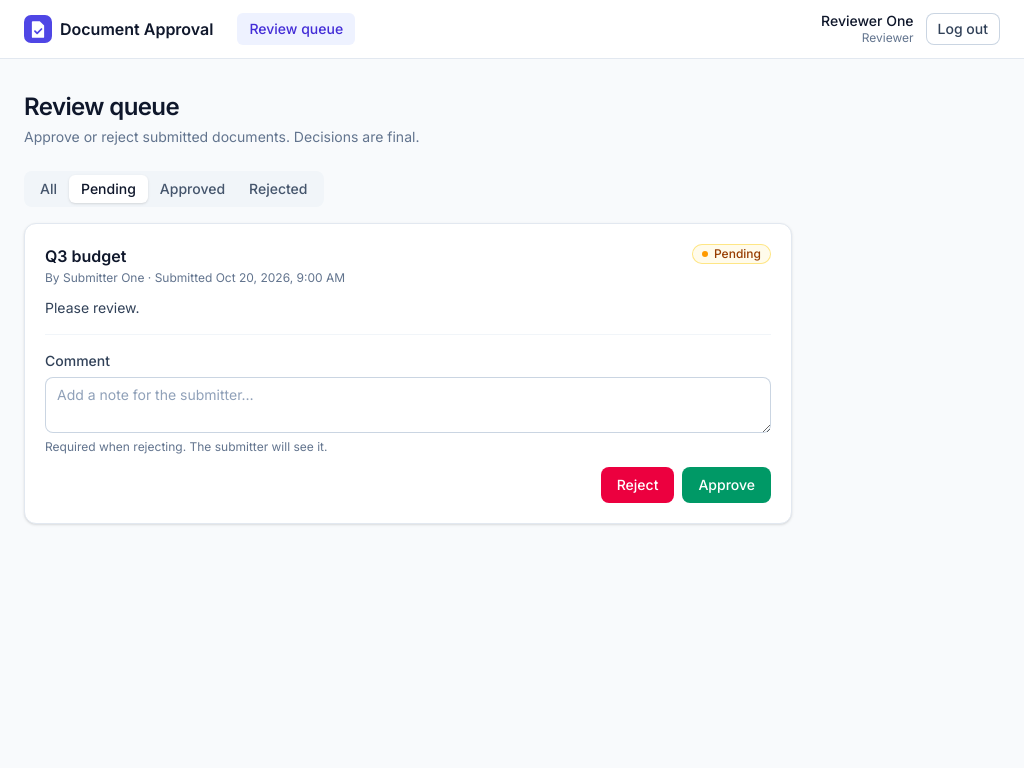
Test case: ReviewQueuePage › explains when another reviewer already decided (409)
Click the button "Approve" at (727, 484), box x1=682 y1=466 x2=771 y2=502
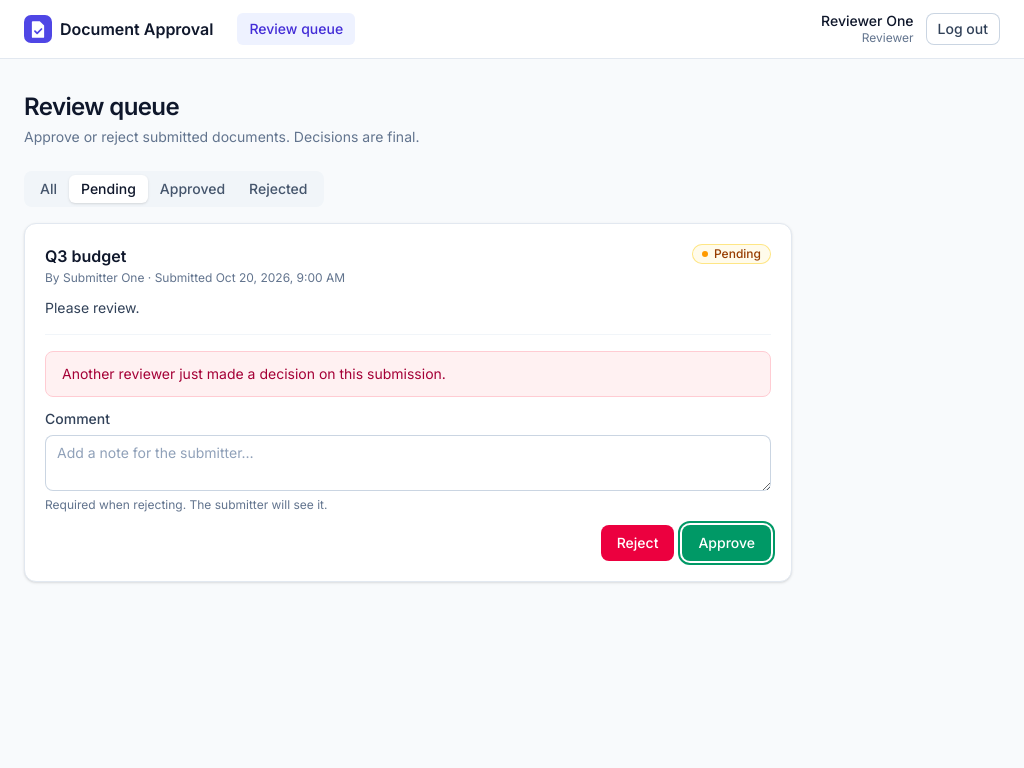
expect the message shows "Another reviewer just made a decision": met, box x1=62 y1=364 x2=446 y2=382
